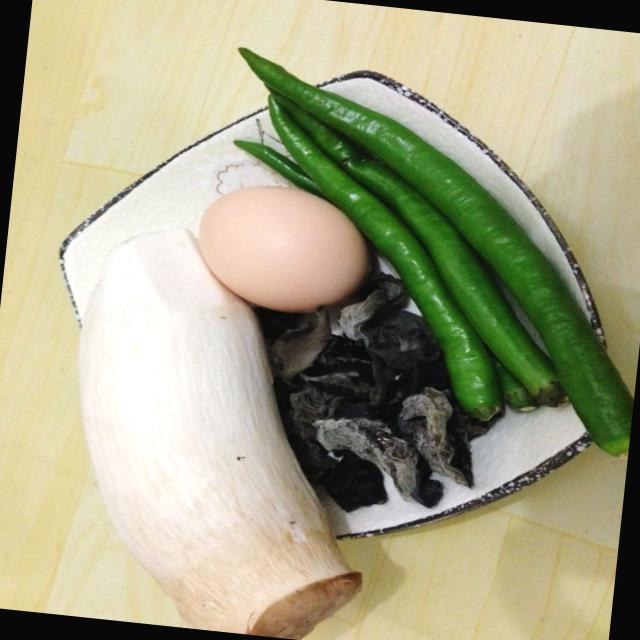Pleurotus eryngii: (52, 219, 395, 640)
